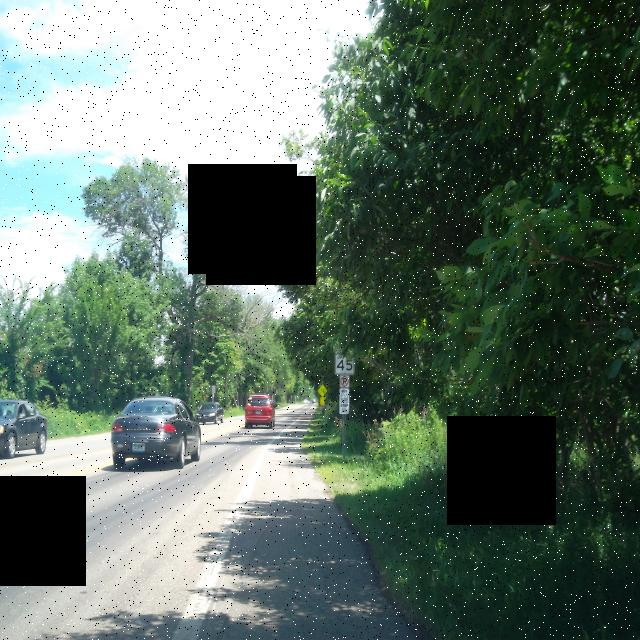regulatory: (333, 338, 357, 377), (338, 372, 351, 389)
warning: (317, 382, 328, 398), (320, 397, 325, 405)
